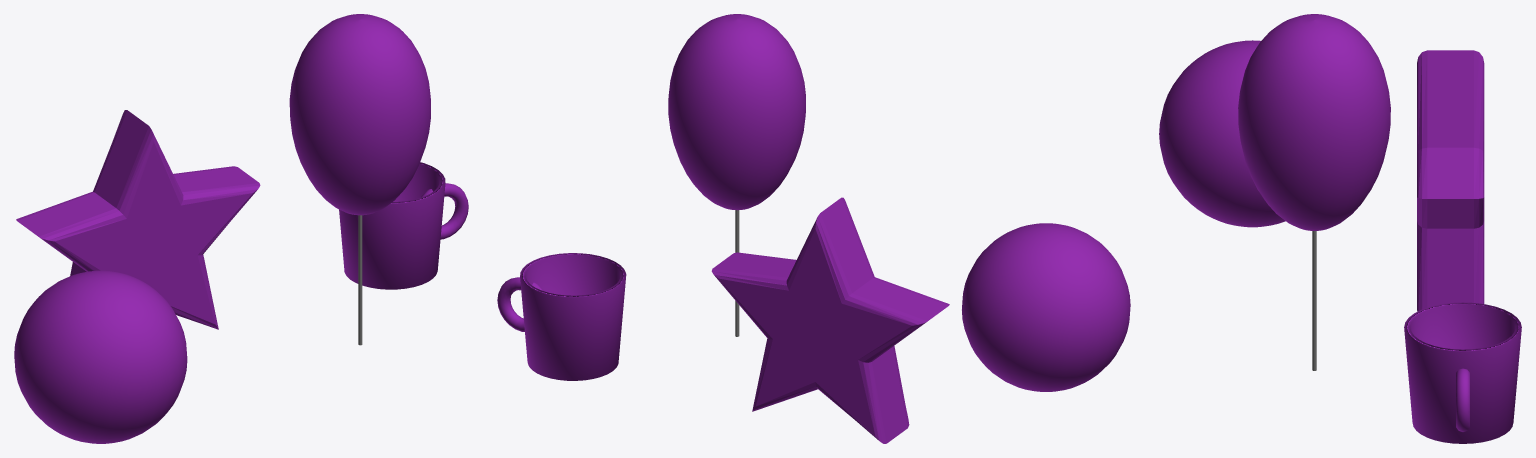
The model's file is purple.glb.
3 renders of one model, left to right at view 1: azimuth 30°, elevation 25°; view 2: azimuth 150°, elevation 25°; view 3: azimuth 270°, elevation 25°, orthographic. The views are drawn at different scales.
Visible parts, largest first — view 1: ball, balloon, star, cup; view 2: star, ball, balloon, cup; view 3: balloon, star, cup, ball.
Part boxes in pixels (box(x1,y1,x2,y2)): ball: box(14, 270, 187, 443); balloon: box(289, 14, 430, 345); star: box(16, 110, 260, 329); cup: box(339, 162, 468, 289); star: box(711, 197, 949, 443); ball: box(962, 223, 1130, 391); balloon: box(668, 14, 805, 336); cup: box(497, 253, 626, 380); balloon: box(1238, 14, 1390, 370); star: box(1417, 50, 1484, 311); cup: box(1404, 302, 1521, 443); ball: box(1159, 40, 1285, 227).
Size of the model in its own units: 2.71 by 1.57 by 1.47.
